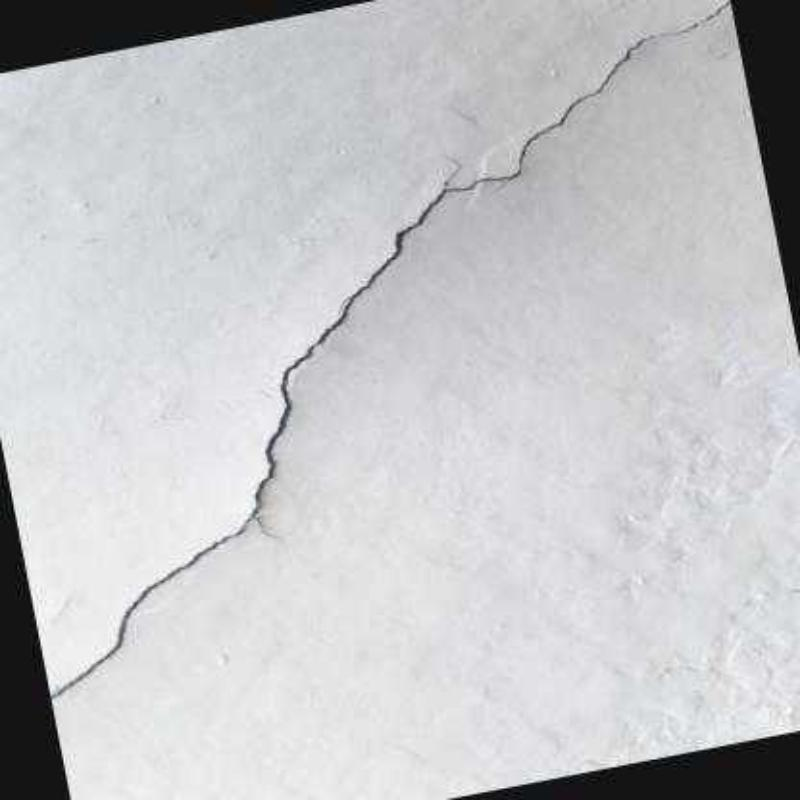crack: (49, 0, 729, 696)
